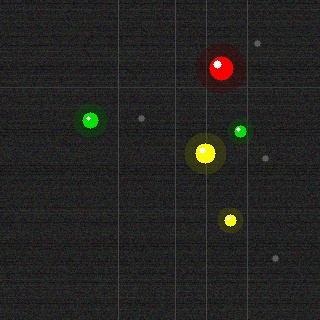green_normal: (80, 110, 100, 130), (232, 123, 248, 139)
red_fault: (207, 54, 235, 82)
yellow_warning: (193, 141, 217, 165), (222, 212, 238, 228)
